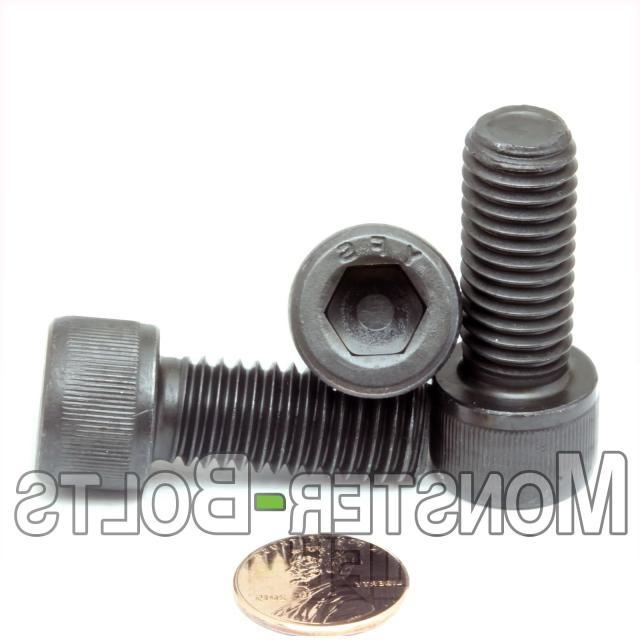allen: (325, 259, 427, 358)
